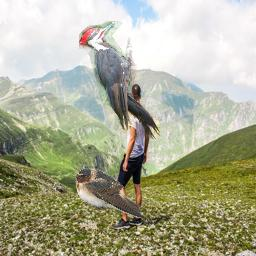Swallow: (73, 168, 147, 218)
Woodpecker: (79, 21, 160, 139)
